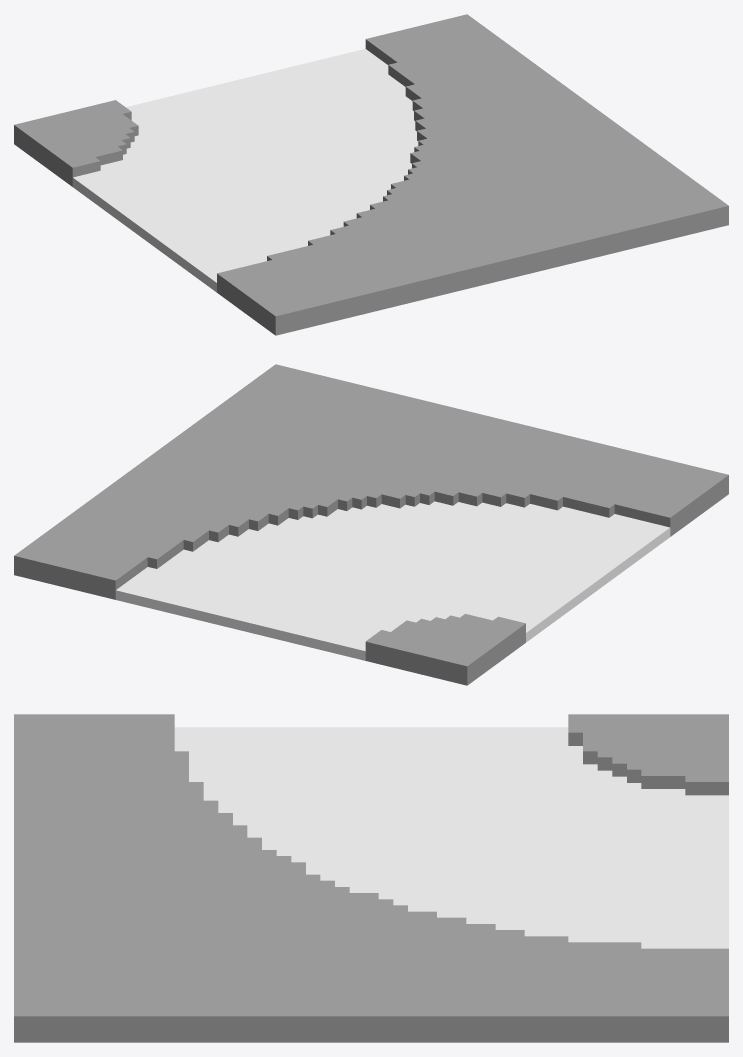
File: road_TL_49.gltf
3 renders of one model, top to bottom at view 1: azimuth 30°, elevation 25°; view 2: azimuth 150°, elevation 25°; view 3: azimuth 270°, elevation 25°, orthographic. The views are drawn at different scales.
Parts seen in each view (by area): view 1: stone, tar, ink; view 2: stone, tar, ink; view 3: stone, tar, ink.
Boxes of the visible parts, bbox=[...] form: stone: bbox=[14, 14, 728, 335]; tar: bbox=[78, 51, 416, 288]; ink: bbox=[72, 48, 418, 292]; stone: bbox=[14, 364, 728, 685]; tar: bbox=[125, 505, 664, 658]; ink: bbox=[115, 501, 670, 660]; stone: bbox=[14, 714, 728, 1042]; tar: bbox=[189, 727, 728, 948]; ink: bbox=[174, 727, 728, 881].
Bounding box in the file's own units: 49 × 2 × 49.
3 materials, 3 textured.
